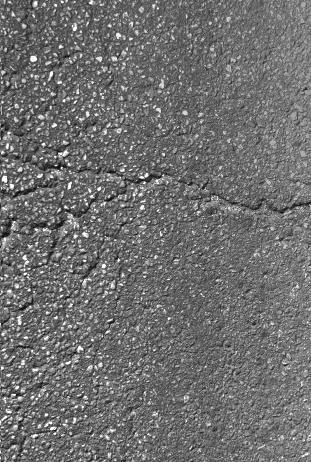alligator-crack: (9, 32, 102, 425)
crack: (135, 164, 311, 221)
